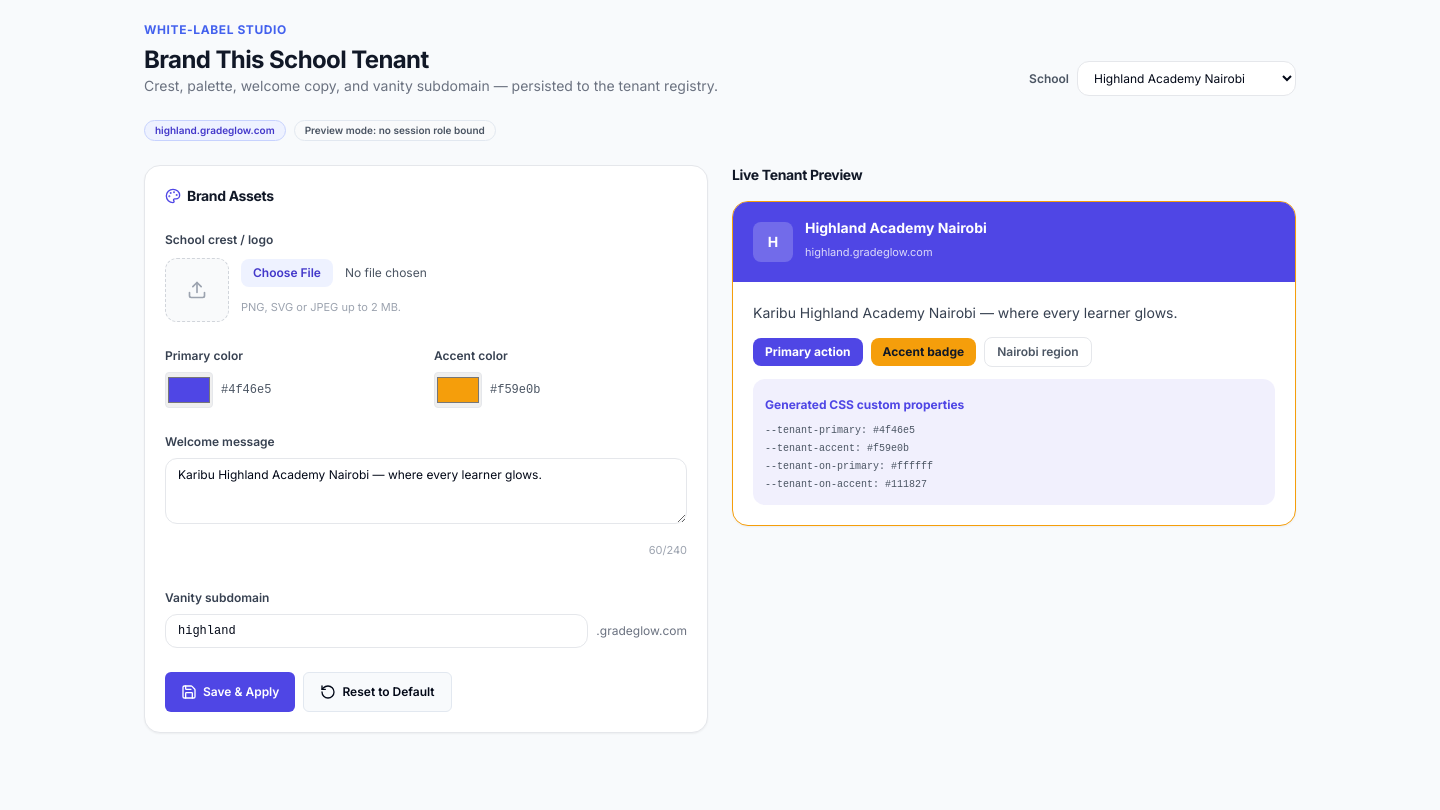
Scenario: WhiteLabelCustomizer › persists an edited theme and subdomain to the tenant registry on save
Type "#0f172a" into the colour field named "Primary brand color" at (189, 390), box [165,372,213,408]
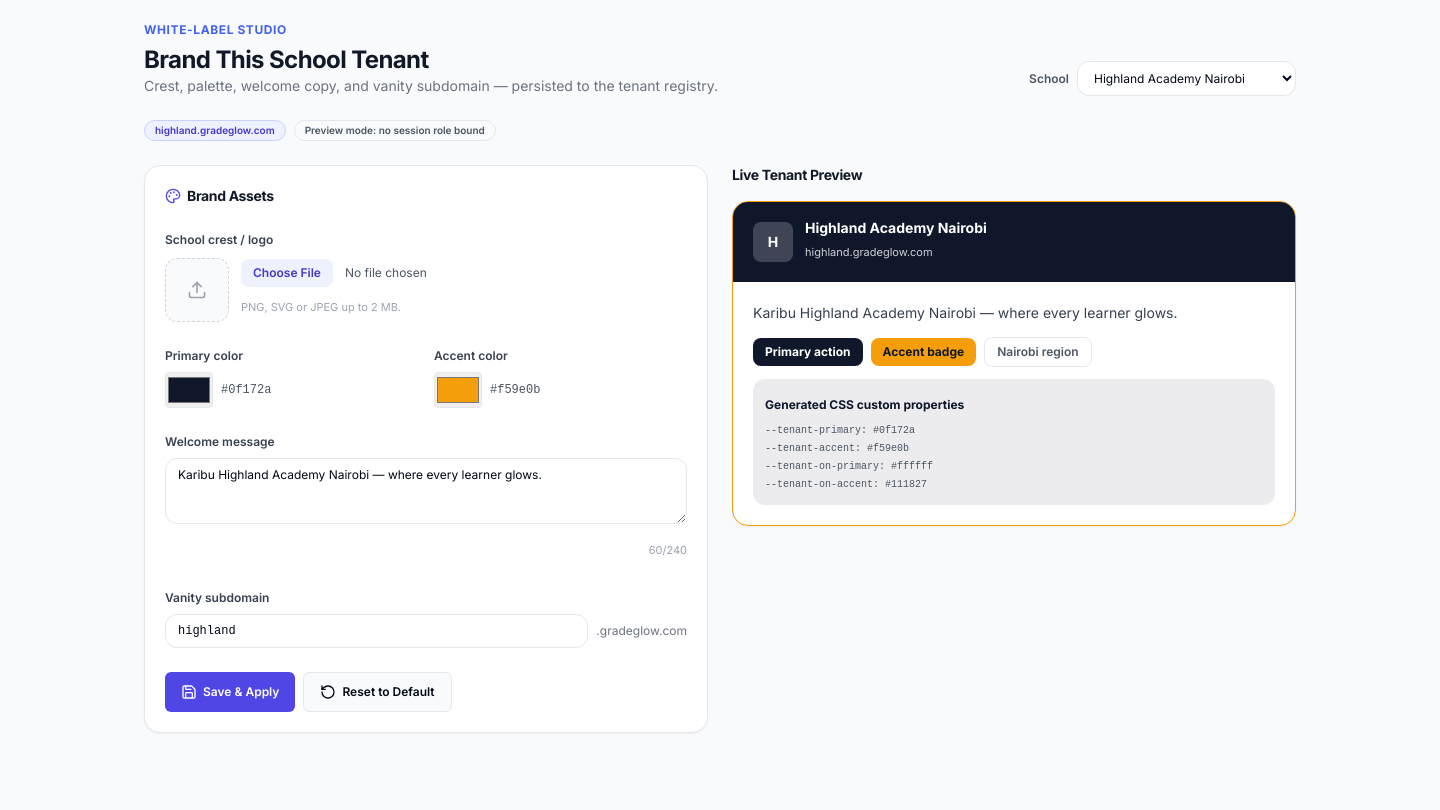
Replace the text in the text box labelled "Welcome message" with "Nia Tekeleza!" at (426, 491), box [165,458,687,524]
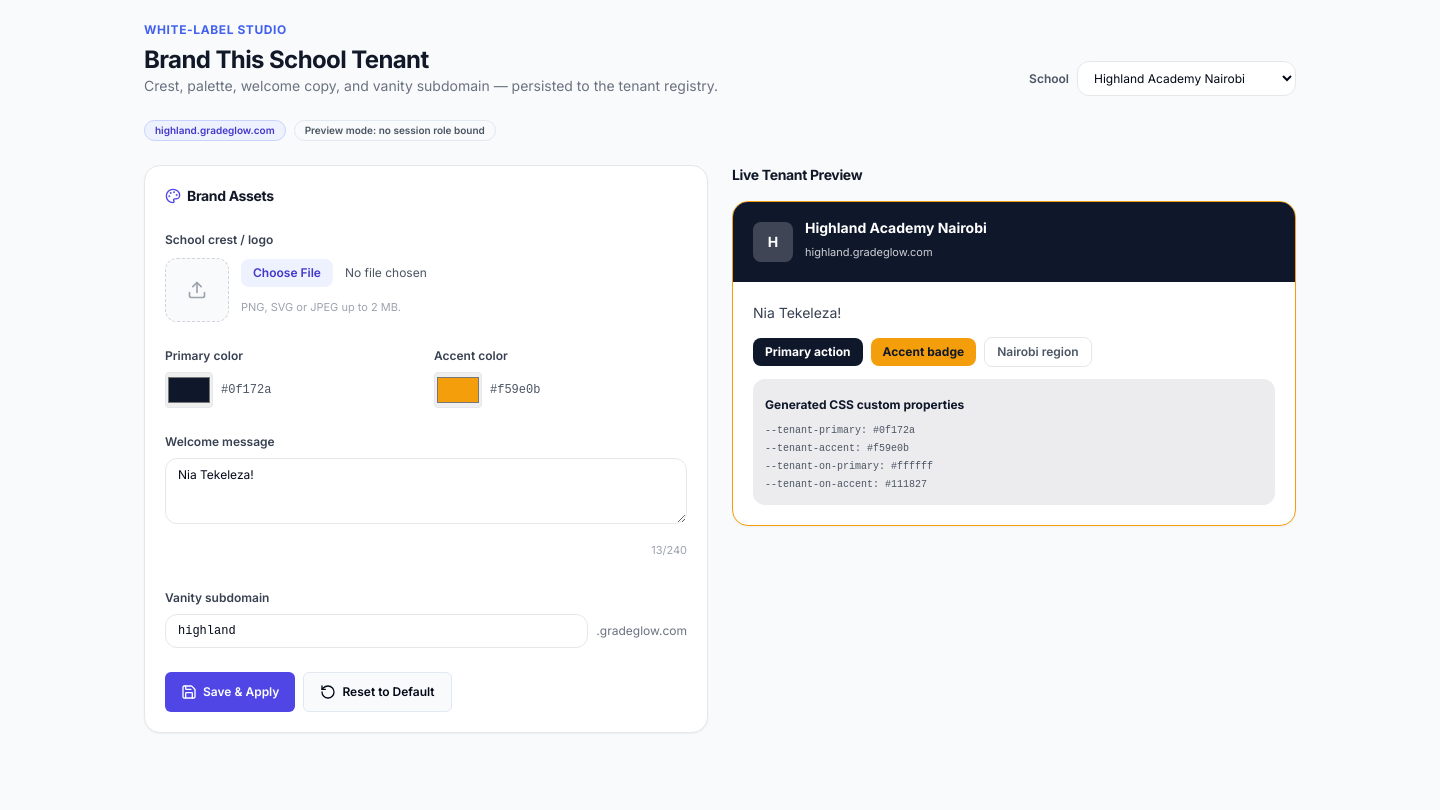
Replace the text in the field labelled "Vanity subdomain" with "highlandprep" at (377, 631), box [165,614,588,648]
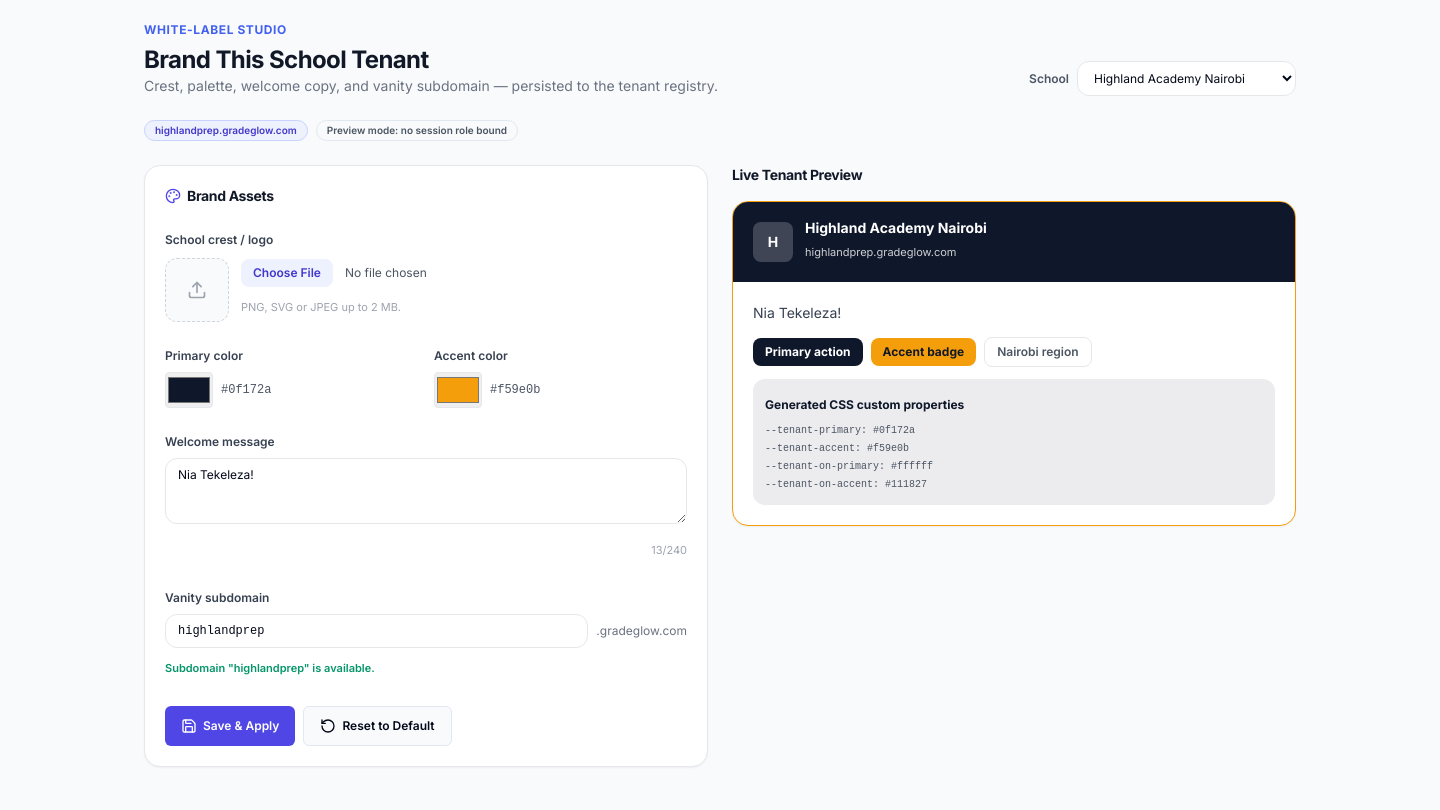
Click the button "Save & Apply" at (230, 726), box [165,706,295,746]
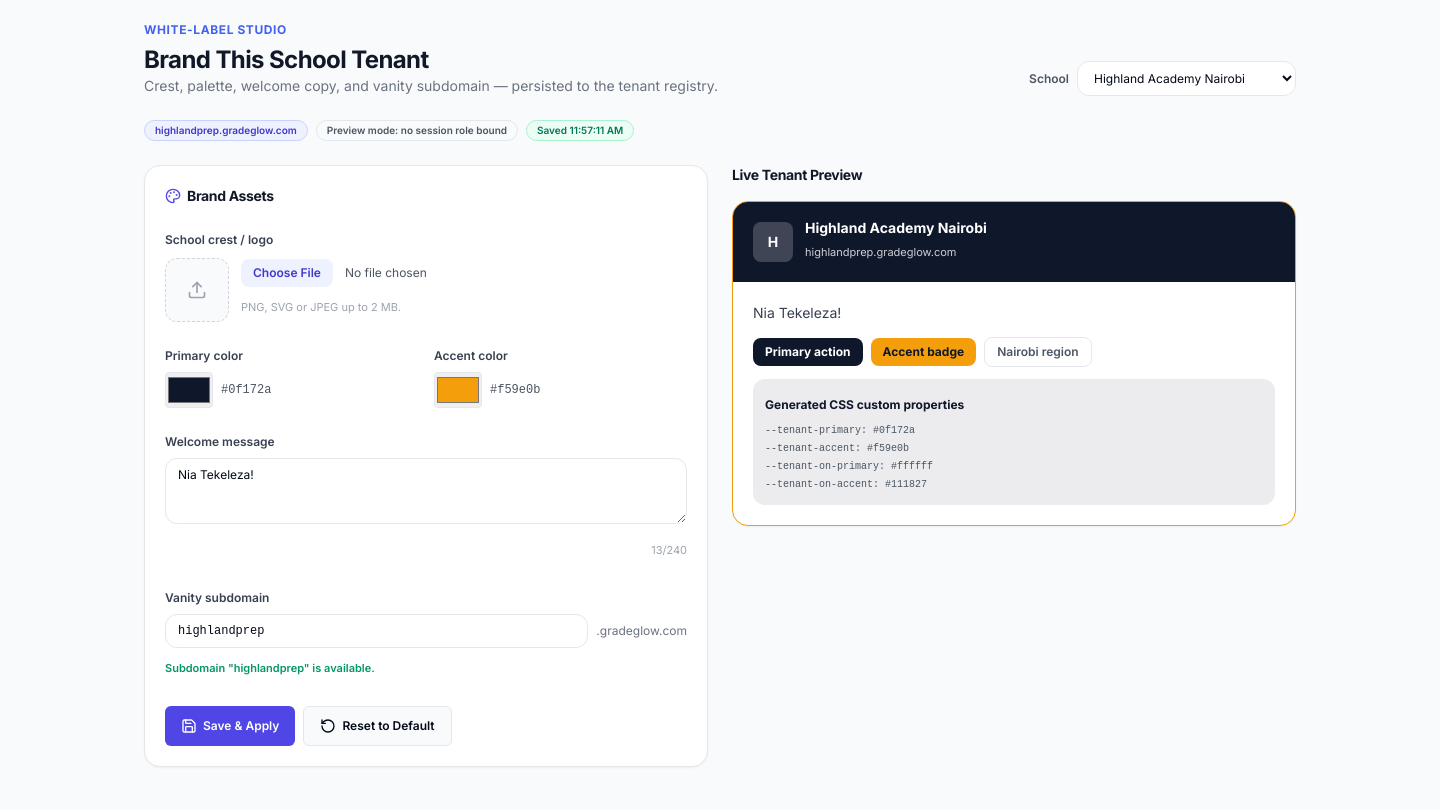
Expected: the text "#0f172a" is shown, [221,382,271,398]
Expected: the text "Saved 11:57:11 AM" is shown, [526,120,634,141]
